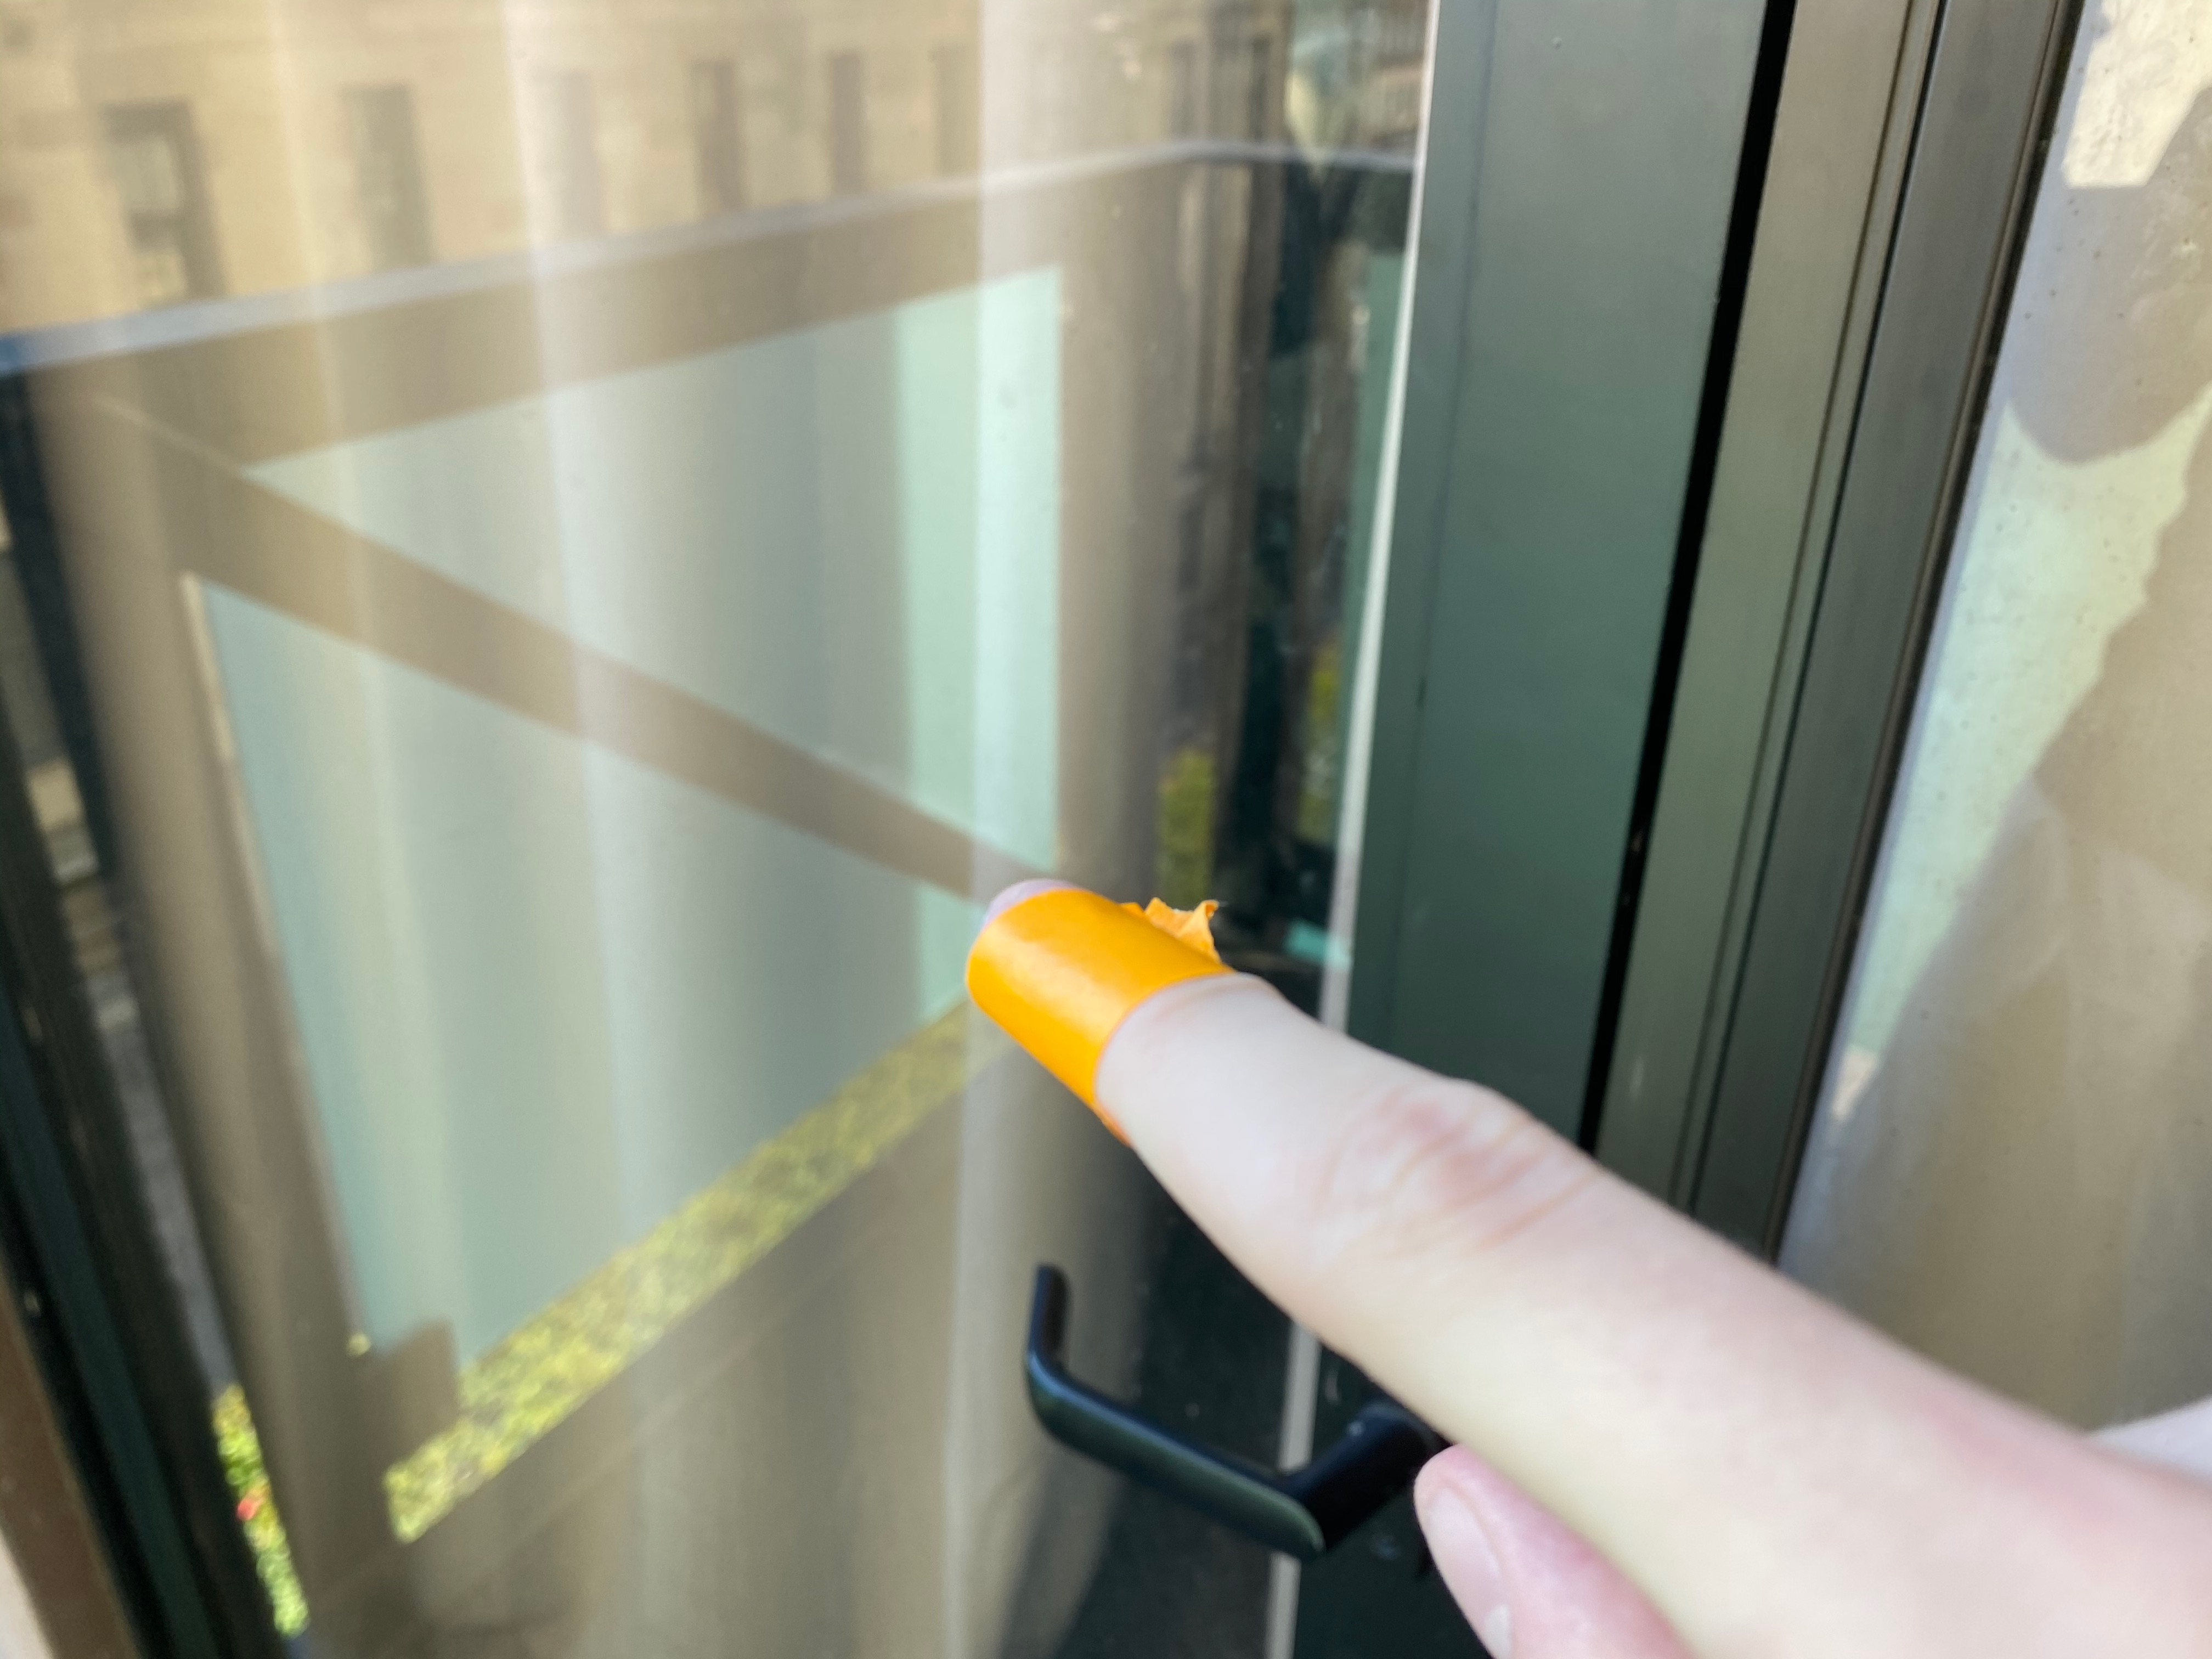fingertip: (932, 843, 1308, 1159)
